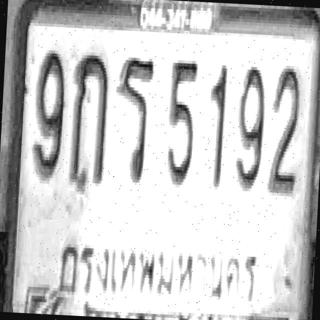A01: (69, 52, 110, 190)
A35: (112, 52, 154, 184)
N01: (205, 60, 228, 188)
N02: (266, 64, 302, 195)
N05: (164, 55, 198, 187)
N09: (32, 49, 67, 180), (234, 64, 266, 192)
P04: (56, 225, 261, 317)
